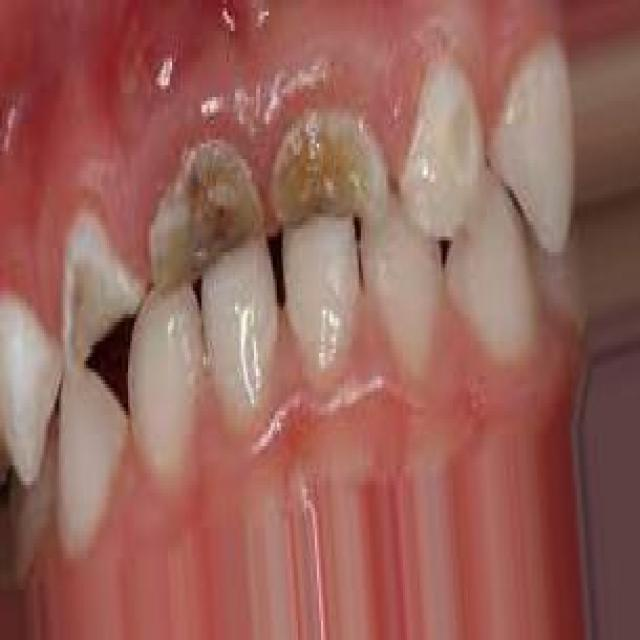caries: (140, 136, 273, 288), (270, 111, 397, 228), (60, 228, 143, 384)
